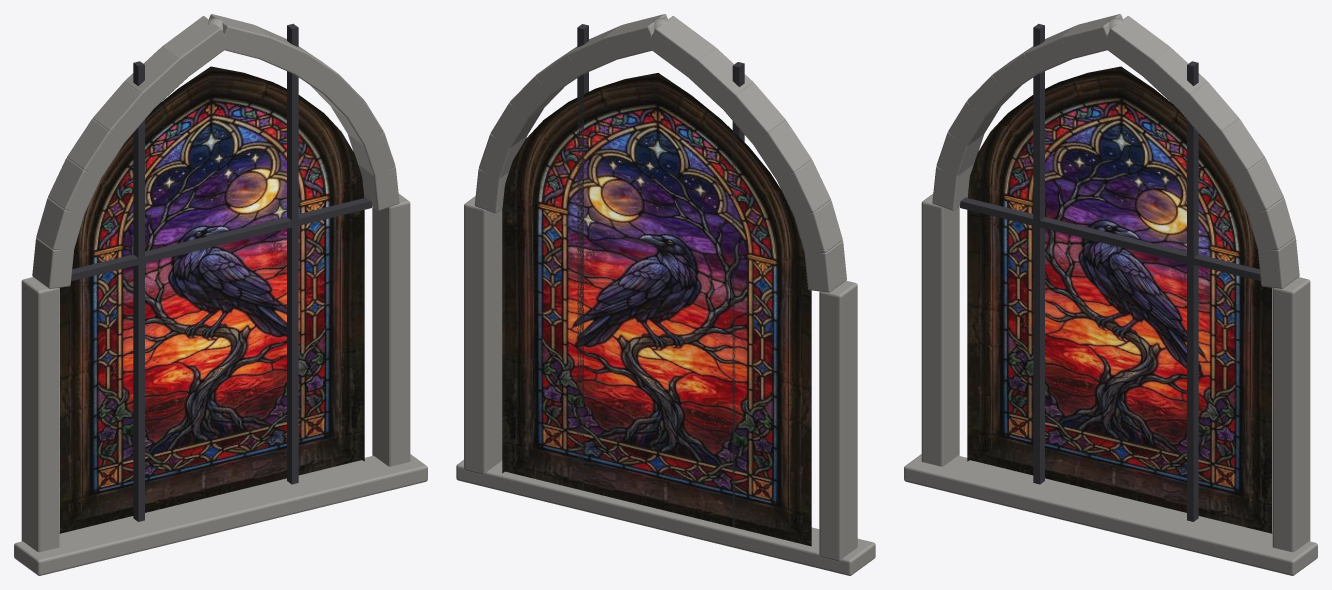
File: window_deco_stained_raven.glb
3 views of the same model, side by side, from view 1: azimuth 30°, elevation 25°; view 2: azimuth 150°, elevation 25°; view 3: azimuth 330°, elevation 25° (orthographic).
Parts seen in each view (by area): view 1: GD_window_deco_stained_raven__m1, GD_window_deco_stained_raven__m0, GD_window_deco_stained_raven__m2; view 2: GD_window_deco_stained_raven__m1, GD_window_deco_stained_raven__m0, GD_window_deco_stained_raven__m2; view 3: GD_window_deco_stained_raven__m1, GD_window_deco_stained_raven__m0, GD_window_deco_stained_raven__m2.
Part boxes in pixels (bbox=[...]): GD_window_deco_stained_raven__m1: bbox=[59, 66, 364, 533]; GD_window_deco_stained_raven__m0: bbox=[14, 14, 427, 575]; GD_window_deco_stained_raven__m2: bbox=[71, 23, 371, 521]; GD_window_deco_stained_raven__m1: bbox=[502, 73, 811, 546]; GD_window_deco_stained_raven__m0: bbox=[456, 14, 875, 575]; GD_window_deco_stained_raven__m2: bbox=[505, 24, 768, 527]; GD_window_deco_stained_raven__m1: bbox=[967, 66, 1272, 533]; GD_window_deco_stained_raven__m0: bbox=[904, 14, 1317, 575]; GD_window_deco_stained_raven__m2: bbox=[960, 23, 1260, 521].
Bounding box in the file's own units: 1.78 × 2.17 × 0.21.
3 materials, 1 textured.
